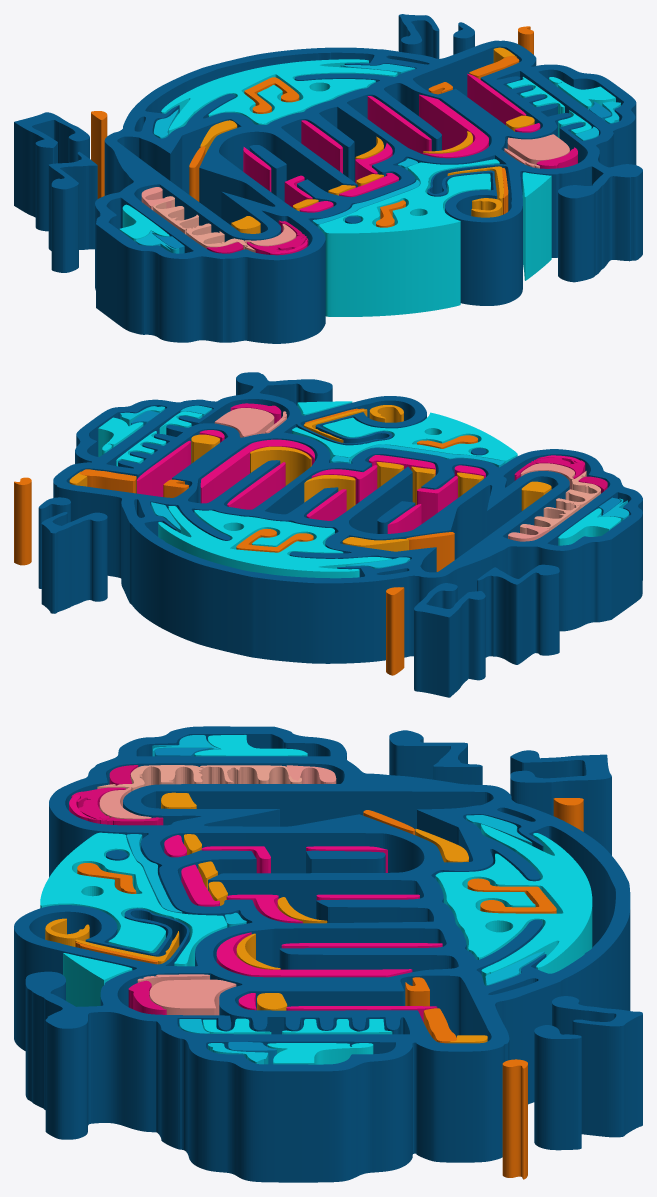
3 views of the same model, one above another, from view 1: azimuth 30°, elevation 25°; view 2: azimuth 150°, elevation 25°; view 3: azimuth 270°, elevation 25° (orthographic). The views are drawn at different scales.
Visible parts, largest first — view 1: imagetostl_mesh0, imagetostl_mesh1, imagetostl_mesh16, imagetostl_mesh15, imagetostl_mesh4, imagetostl_mesh2, imagetostl_mesh17, imagetostl_mesh24, imagetostl_mesh14, imagetostl_mesh28, imagetostl_mesh34, imagetostl_mesh6 (+16 smaller); view 2: imagetostl_mesh0, imagetostl_mesh1, imagetostl_mesh2, imagetostl_mesh4, imagetostl_mesh6, imagetostl_mesh15, imagetostl_mesh17, imagetostl_mesh14, imagetostl_mesh62, imagetostl_mesh64, imagetostl_mesh36, imagetostl_mesh28 (+23 smaller); view 3: imagetostl_mesh0, imagetostl_mesh1, imagetostl_mesh15, imagetostl_mesh6, imagetostl_mesh17, imagetostl_mesh10, imagetostl_mesh2, imagetostl_mesh14, imagetostl_mesh64, imagetostl_mesh4, imagetostl_mesh116, imagetostl_mesh89 (+22 smaller).
Boxes of the visible parts, x1,y1,x2,y2 form: imagetostl_mesh0: (95, 46, 642, 343); imagetostl_mesh1: (95, 40, 642, 260); imagetostl_mesh16: (319, 162, 499, 316); imagetostl_mesh15: (161, 59, 397, 130); imagetostl_mesh4: (48, 154, 97, 272); imagetostl_mesh2: (14, 120, 89, 231); imagetostl_mesh17: (319, 159, 499, 233); imagetostl_mesh24: (522, 176, 551, 280); imagetostl_mesh14: (161, 61, 397, 134); imagetostl_mesh28: (419, 95, 488, 158); imagetostl_mesh34: (367, 96, 431, 153); imagetostl_mesh6: (398, 16, 439, 58); imagetostl_mesh0: (53, 379, 642, 663); imagetostl_mesh1: (53, 372, 642, 583); imagetostl_mesh2: (414, 588, 485, 697); imagetostl_mesh4: (477, 572, 559, 664); imagetostl_mesh6: (41, 513, 107, 613); imagetostl_mesh15: (158, 506, 391, 571); imagetostl_mesh17: (292, 412, 517, 460); imagetostl_mesh14: (158, 507, 391, 578); imagetostl_mesh62: (386, 588, 404, 675); imagetostl_mesh64: (14, 482, 31, 565); imagetostl_mesh36: (137, 442, 190, 496); imagetostl_mesh28: (200, 446, 314, 503); imagetostl_mesh0: (14, 734, 630, 1182); imagetostl_mesh1: (14, 726, 630, 1071); imagetostl_mesh15: (435, 824, 592, 973); imagetostl_mesh6: (552, 1002, 642, 1137); imagetostl_mesh17: (40, 832, 227, 963); imagetostl_mesh10: (534, 1032, 581, 1150); imagetostl_mesh2: (510, 757, 611, 855); imagetostl_mesh14: (435, 825, 592, 985); imagetostl_mesh64: (502, 1065, 527, 1179); imagetostl_mesh4: (389, 738, 482, 784); imagetostl_mesh116: (97, 766, 301, 790); imagetostl_mesh89: (149, 979, 235, 1008).
Bounding box in the file's own units: 66.63 × 10 × 51.33.
